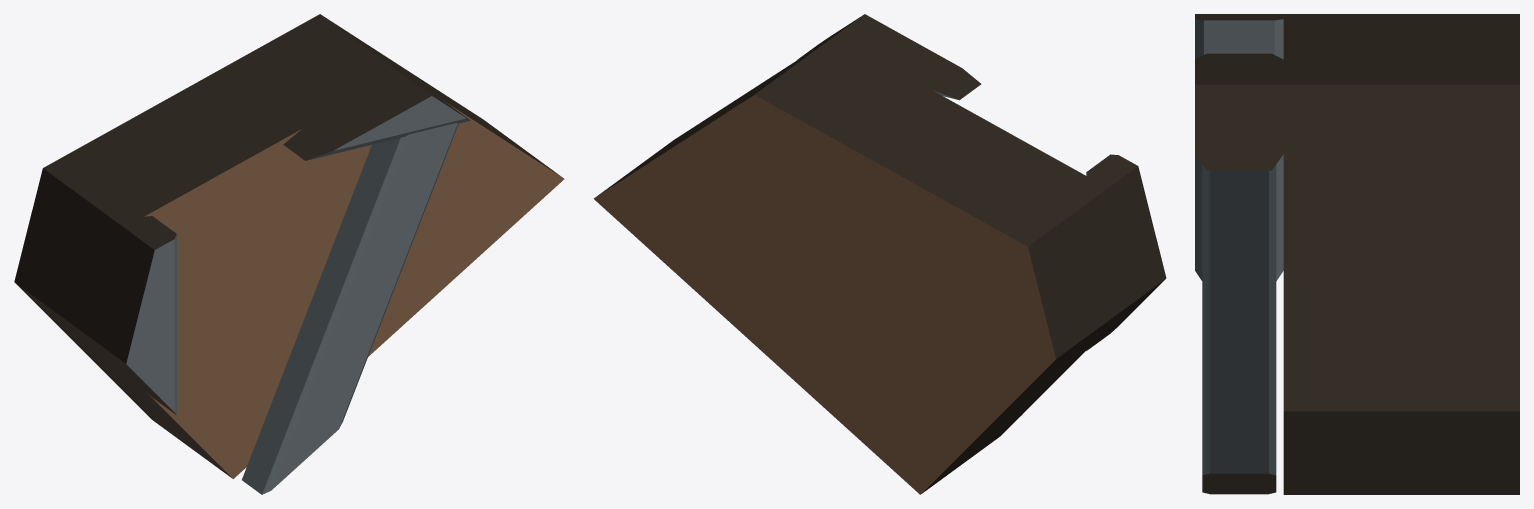
File: SM_DoorShard_01_27.fbx
The picture shows the model from 3 angles, left to right: view 1: azimuth 30°, elevation 25°; view 2: azimuth 150°, elevation 25°; view 3: azimuth 270°, elevation 25°; orthographic projection. The views are drawn at different scales.
Visible parts, largest first — view 1: SM_DoorShard_01_27; view 2: SM_DoorShard_01_27; view 3: SM_DoorShard_01_27.
Part boxes in pixels (x1,y1,x2,y2): SM_DoorShard_01_27: (14,14,564,494); SM_DoorShard_01_27: (594,14,1166,494); SM_DoorShard_01_27: (1195,14,1519,494).
Bounding box in the file's own units: 53.22 × 22 × 39.54.
